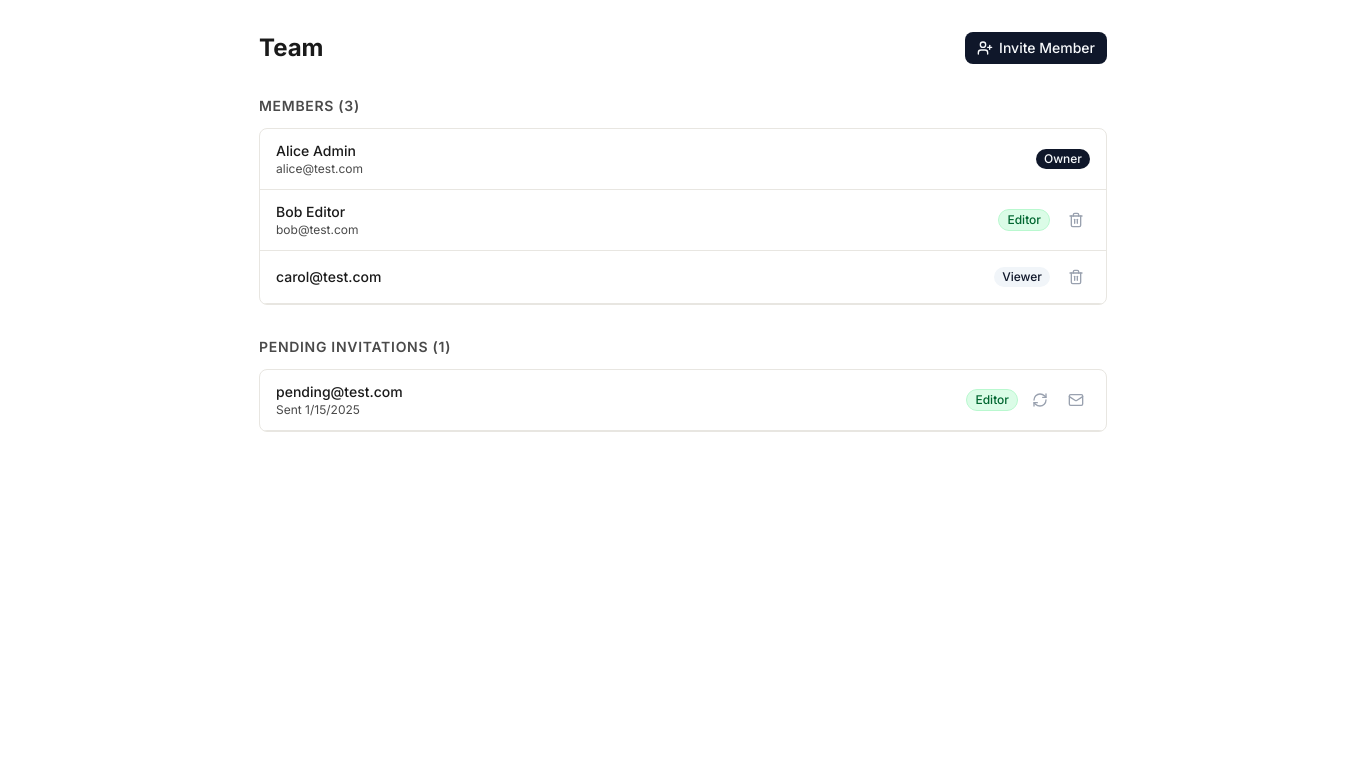
Test case: V2Team › opens invite modal when Invite Member is clicked
The image size is (1366, 768).
Click the button "Invite Member" at (1036, 48), box [965,32,1107,64]
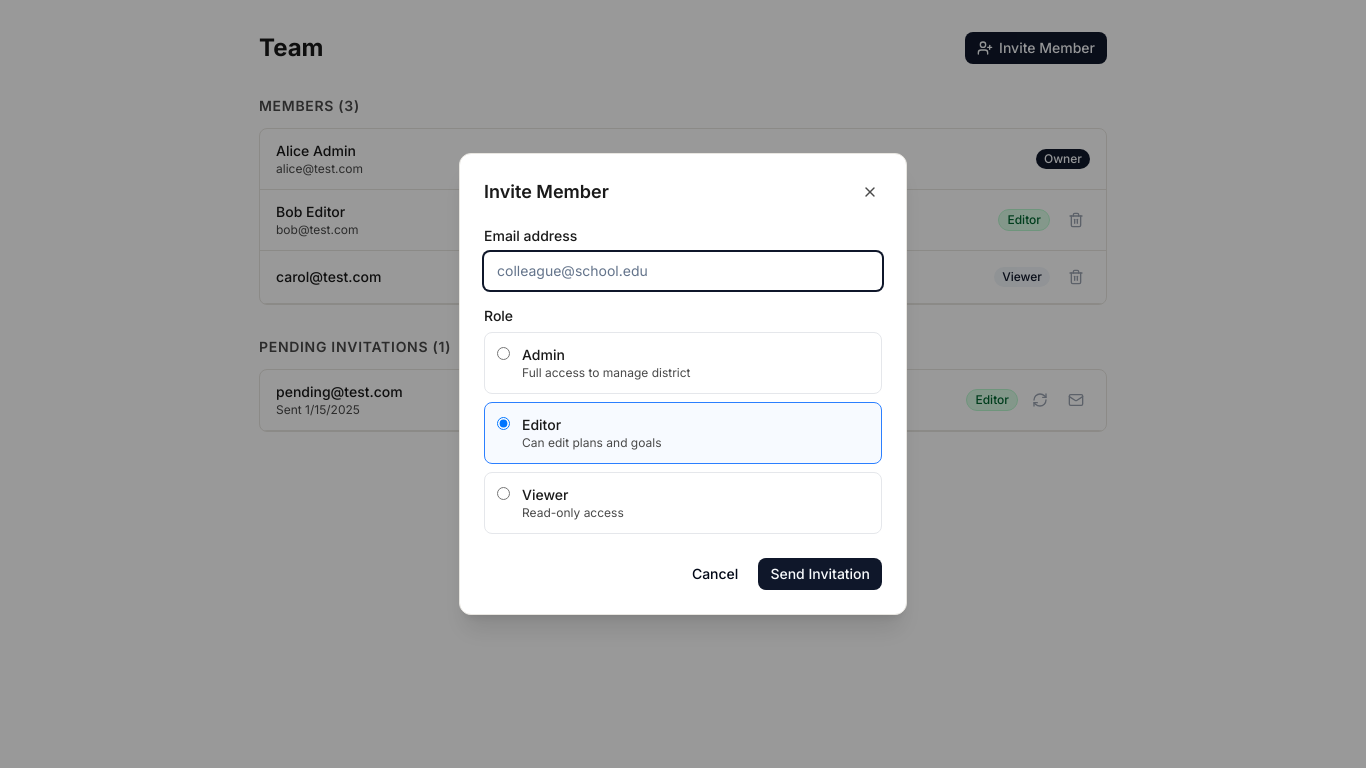
Result: the dialog "Invite Member" is shown at [459,153,907,615]
